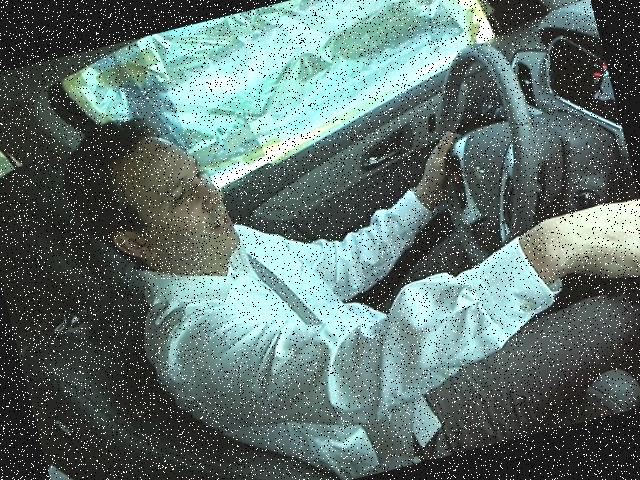c3 - Operating the Radio: (57, 0, 639, 456)
